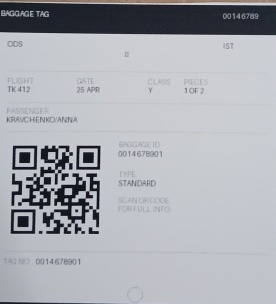LPN_bottom: (34, 255, 84, 268)
LPN_right: (114, 149, 168, 159)
